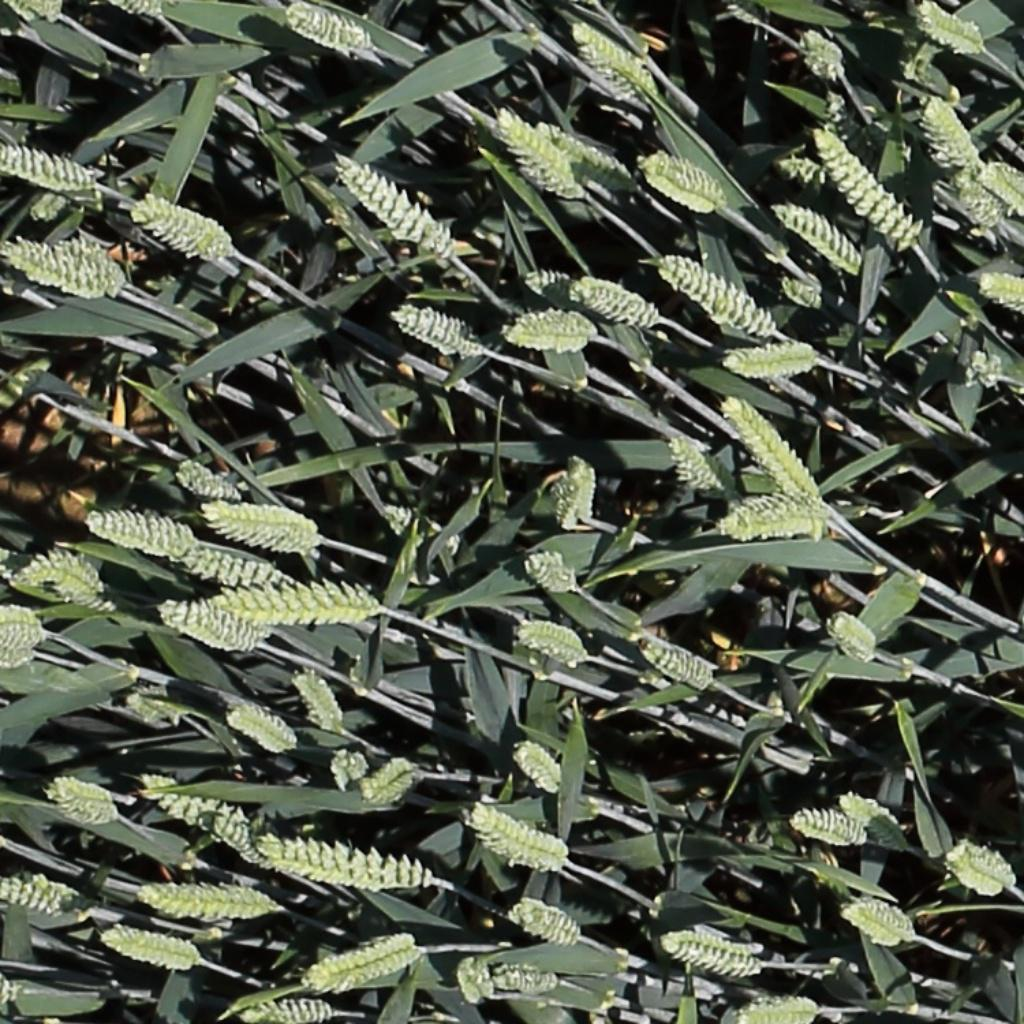0-0: (806, 120, 918, 248), (331, 150, 454, 254), (208, 574, 391, 638), (719, 393, 820, 503), (255, 833, 430, 890), (653, 253, 772, 334), (535, 120, 641, 203), (494, 107, 584, 199), (0, 230, 111, 301), (302, 930, 420, 994), (158, 595, 275, 659), (87, 501, 205, 563), (134, 881, 288, 926), (569, 21, 655, 101), (38, 234, 136, 303), (638, 145, 727, 218), (713, 489, 823, 547), (133, 197, 241, 256), (384, 499, 477, 567), (462, 798, 562, 860), (94, 919, 201, 976), (771, 202, 862, 268), (501, 304, 603, 361), (922, 90, 985, 176), (0, 144, 98, 197), (163, 546, 283, 588), (519, 265, 614, 318), (140, 786, 244, 834), (834, 774, 913, 836), (716, 338, 822, 382), (909, 0, 989, 57), (12, 546, 112, 590), (44, 773, 121, 830), (662, 933, 761, 977), (570, 277, 658, 324), (285, 666, 342, 738), (390, 307, 477, 353), (282, 5, 368, 50), (663, 431, 723, 495), (471, 831, 561, 873), (779, 804, 866, 846), (206, 513, 307, 548), (37, 571, 117, 615), (516, 617, 588, 664), (638, 641, 712, 686), (0, 874, 73, 919), (551, 453, 591, 535), (223, 708, 296, 752), (953, 165, 1002, 230), (947, 845, 1017, 890), (522, 547, 583, 598), (208, 817, 277, 862), (506, 903, 580, 944), (509, 741, 563, 797), (768, 151, 828, 199), (136, 772, 206, 813), (815, 84, 860, 147), (324, 745, 375, 800), (172, 461, 240, 502), (122, 685, 186, 728), (942, 854, 1006, 897), (207, 506, 308, 533), (841, 905, 907, 946), (794, 28, 847, 79), (827, 613, 877, 663), (961, 340, 1003, 395), (359, 764, 416, 804), (980, 163, 1024, 208), (453, 951, 486, 1011), (0, 606, 46, 647), (976, 277, 1024, 315), (236, 1003, 331, 1022), (0, 635, 44, 672), (778, 274, 823, 308), (476, 973, 557, 991), (28, 189, 71, 222), (740, 1004, 817, 1022), (726, 1, 765, 27), (111, 0, 163, 16)
